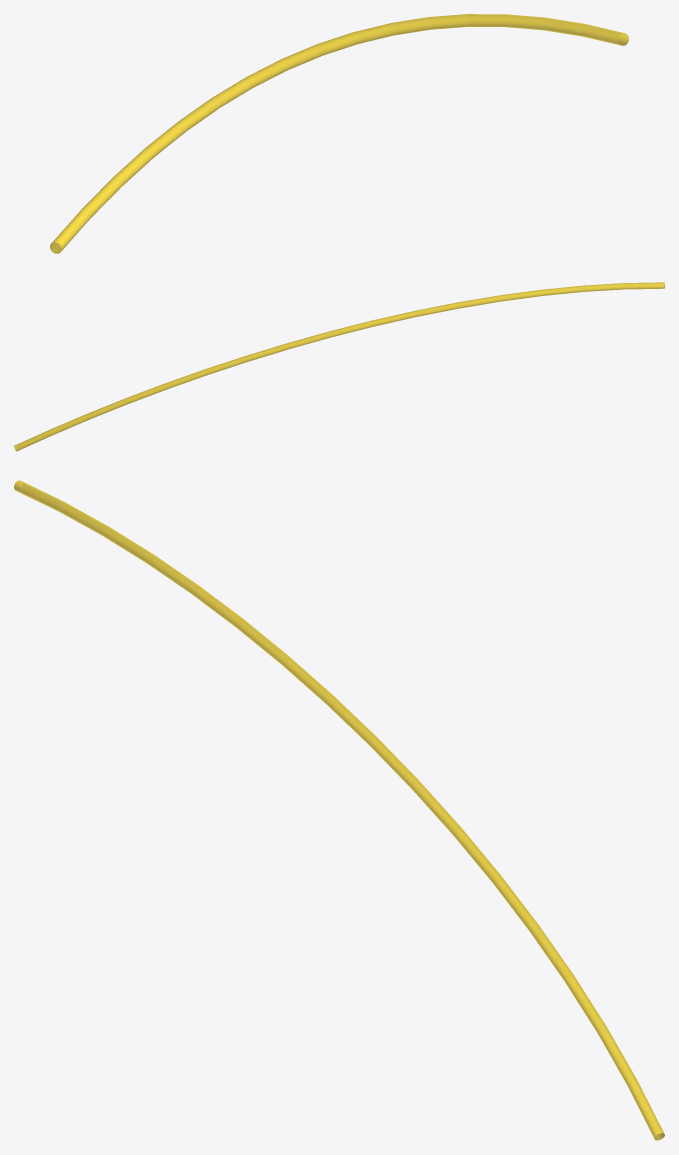
File: Event_100608114_track_123.fbx
The picture shows the model from 3 angles, top to bottom: view 1: azimuth 30°, elevation 25°; view 2: azimuth 150°, elevation 25°; view 3: azimuth 270°, elevation 25°; orthographic projection. The views are drawn at different scales.
Visible parts, largest first — view 1: Model; view 2: Model; view 3: Model.
Boxes of the visible parts, x1,y1,x2,y2 form: Model: [50, 14, 628, 253]; Model: [14, 282, 664, 451]; Model: [14, 480, 664, 1140].
Size of the model in its own units: 3.36 by 1.03 by 2.3.
